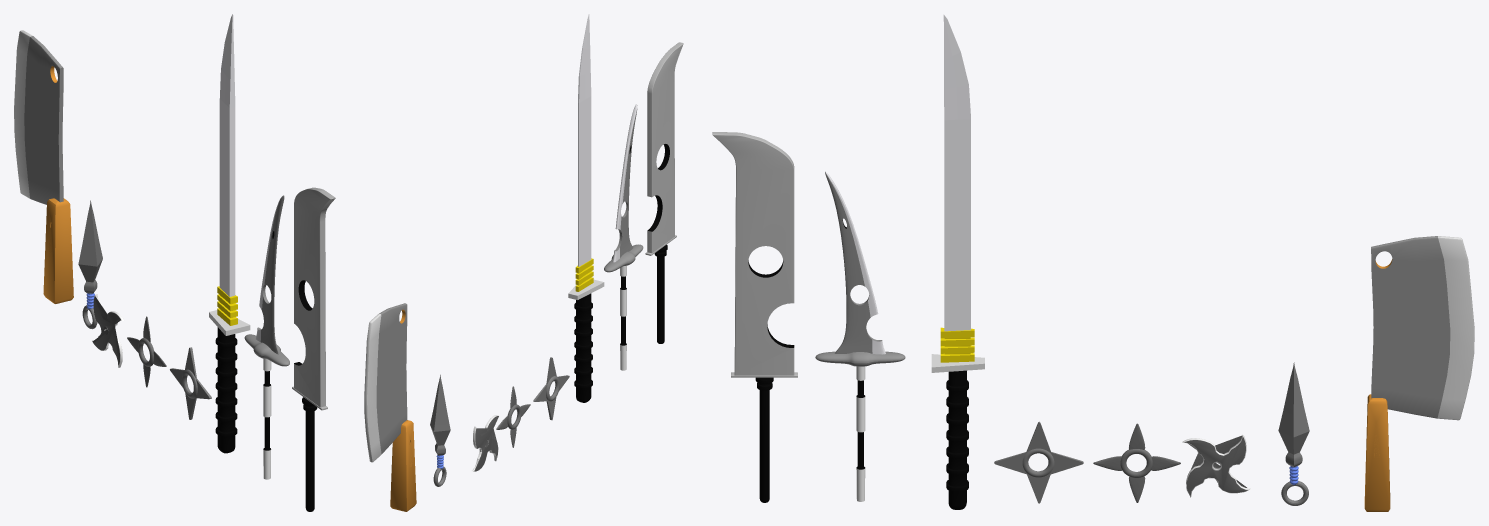
The picture shows the model from 3 angles, left to right: view 1: azimuth 30°, elevation 25°; view 2: azimuth 150°, elevation 25°; view 3: azimuth 270°, elevation 25°; orthographic projection. The views are drawn at different scales.
Visible parts, largest first — view 1: Cube.002, Cube, Cylinder, Cylinder.001, Cube.001, Plane, Torus, Torus.001; view 2: Cube.002, Cylinder, Cube, Cylinder.001, Cube.001, Plane, Torus, Torus.001; view 3: Cube.002, Cylinder, Cube, Cylinder.001, Plane, Cube.001, Torus, Torus.001.
Part boxes in pixels (x1,y1,x2,y2): Cube.002: [14, 30, 73, 303]; Cube: [209, 14, 250, 453]; Cylinder: [292, 187, 335, 511]; Cylinder.001: [244, 195, 289, 479]; Cube.001: [78, 200, 102, 329]; Plane: [92, 294, 124, 367]; Torus: [170, 347, 211, 419]; Torus.001: [127, 316, 166, 387]; Cube.002: [364, 303, 416, 511]; Cylinder: [645, 42, 683, 343]; Cube: [568, 14, 604, 402]; Cylinder.001: [604, 104, 643, 370]; Cube.001: [430, 374, 450, 486]; Plane: [472, 415, 498, 471]; Torus: [533, 357, 569, 420]; Torus.001: [496, 386, 530, 447]; Cube.002: [1364, 236, 1474, 511]; Cylinder: [712, 132, 797, 502]; Cube: [931, 14, 984, 509]; Cylinder.001: [815, 171, 905, 501]; Plane: [1182, 434, 1250, 497]; Cube.001: [1278, 362, 1309, 505]; Torus: [994, 421, 1083, 503]; Torus.001: [1093, 423, 1180, 502].
Bounding box in the file's own units: 323 × 3123 × 4367.
